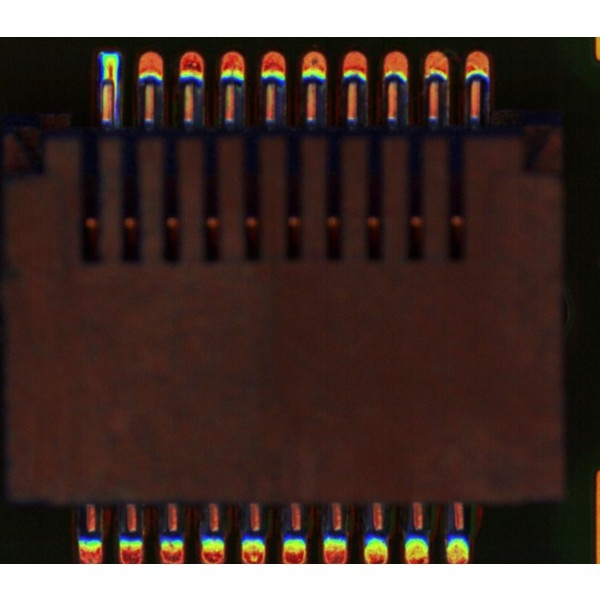Bad_qiaojiao: (113, 82, 119, 122)
